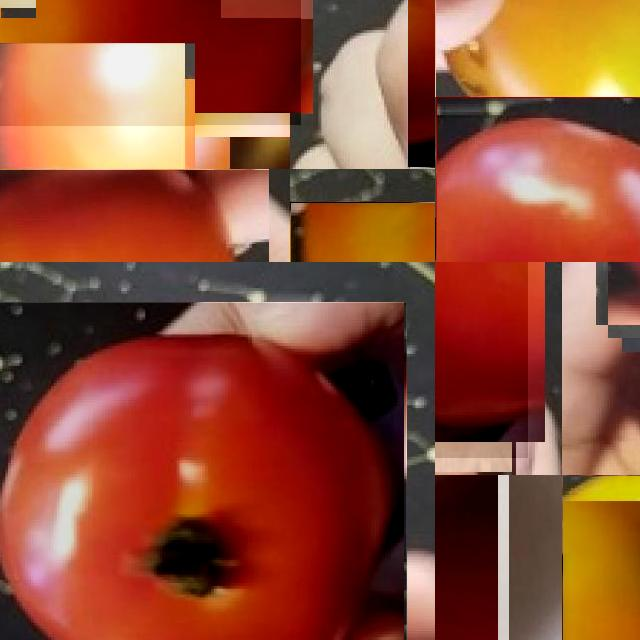0: (0, 0, 301, 125), (0, 169, 269, 262), (0, 44, 195, 169), (290, 202, 435, 262)
Fresh Tomato: (0, 303, 406, 640), (436, 97, 640, 262), (435, 262, 528, 458)
Rotten Tomato: (436, 0, 640, 97), (562, 475, 640, 640)
